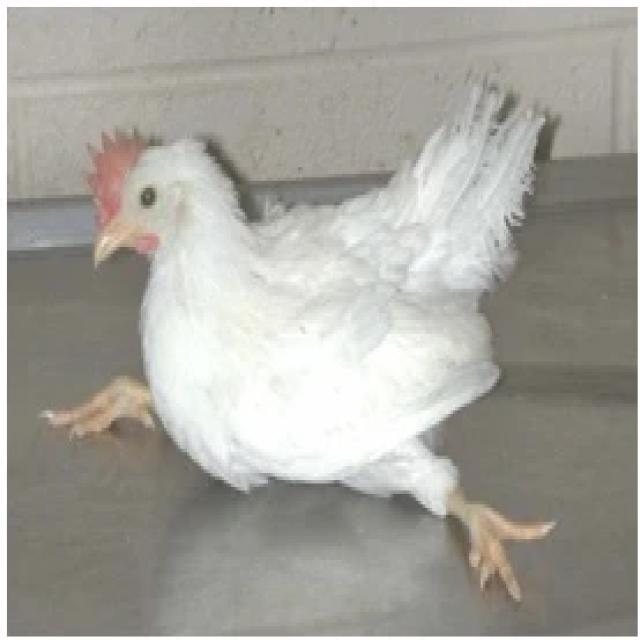abnormal chicken: (29, 57, 580, 611)
